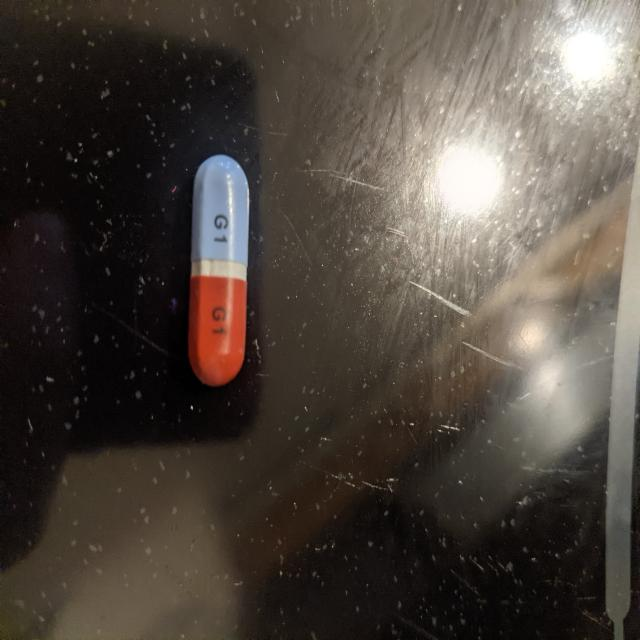non-organic waste: (186, 151, 252, 390)
